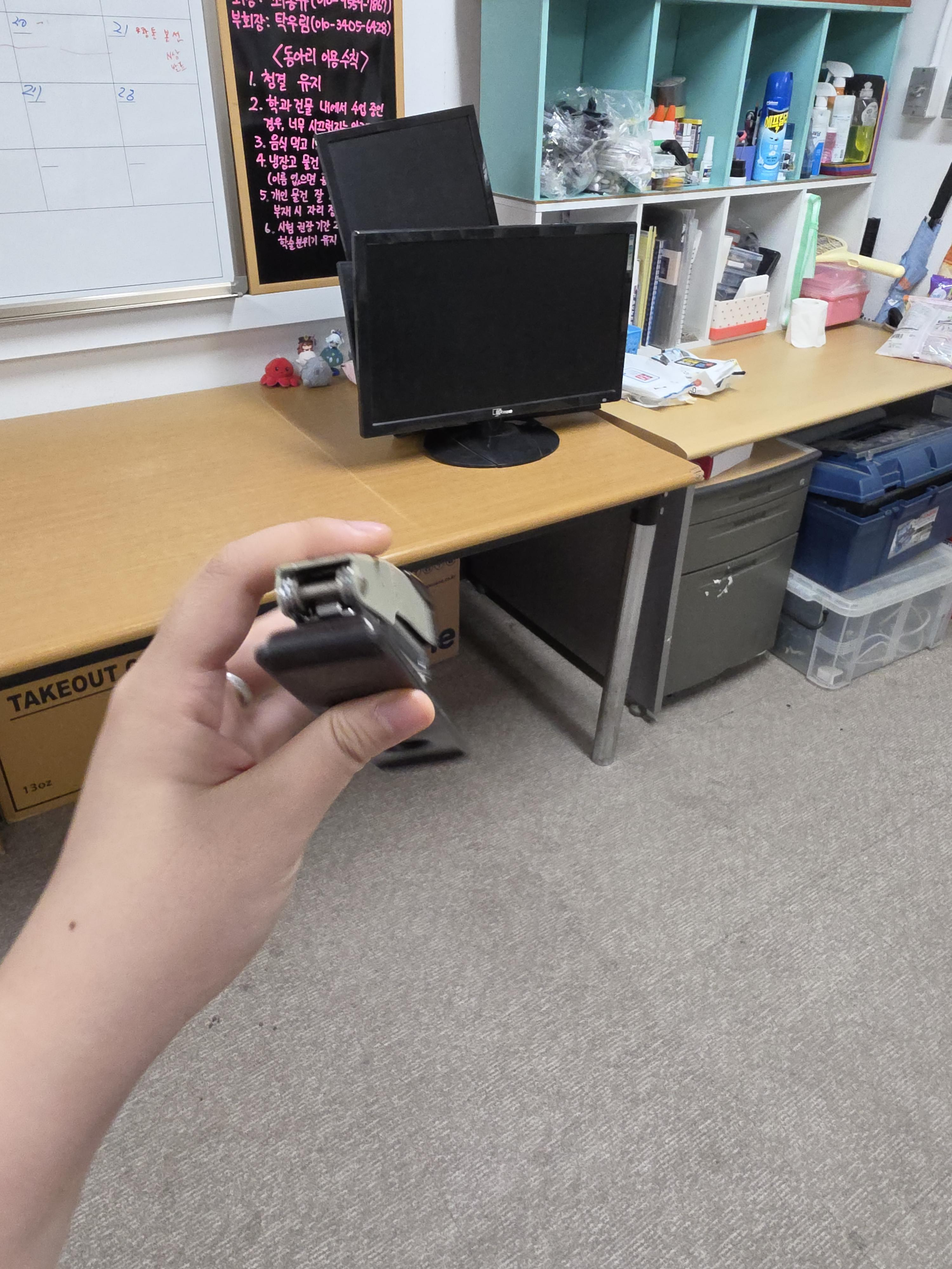stapler: (254, 552, 469, 771)
tissue: (622, 346, 745, 408), (787, 297, 828, 349)
